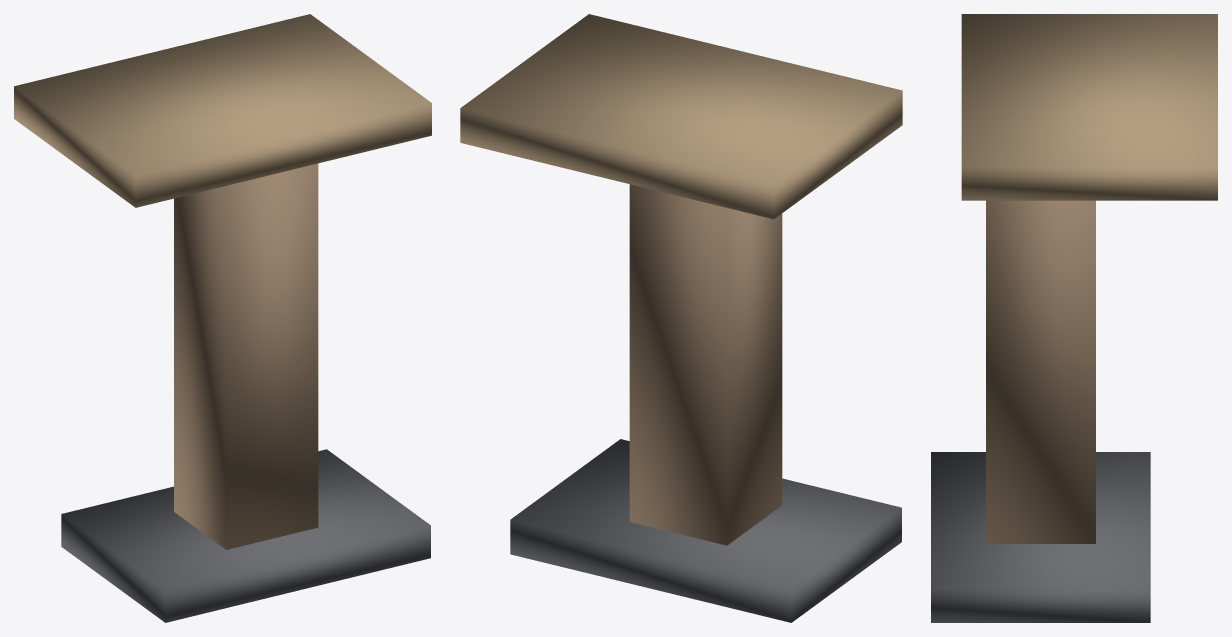
The model's file is lectern__squat.glb.
3 renders of one model, left to right at view 1: azimuth 30°, elevation 25°; view 2: azimuth 150°, elevation 25°; view 3: azimuth 270°, elevation 25°, orthographic. The views are drawn at different scales.
Parts seen in each view (by area): view 1: world; view 2: world; view 3: world.
Part boxes in pixels (bbox=[...]): world: bbox=[14, 14, 431, 622]; world: bbox=[460, 14, 902, 622]; world: bbox=[931, 14, 1217, 622].
Bounding box in the file's own units: 0.638 × 0.9072 × 0.5076.
